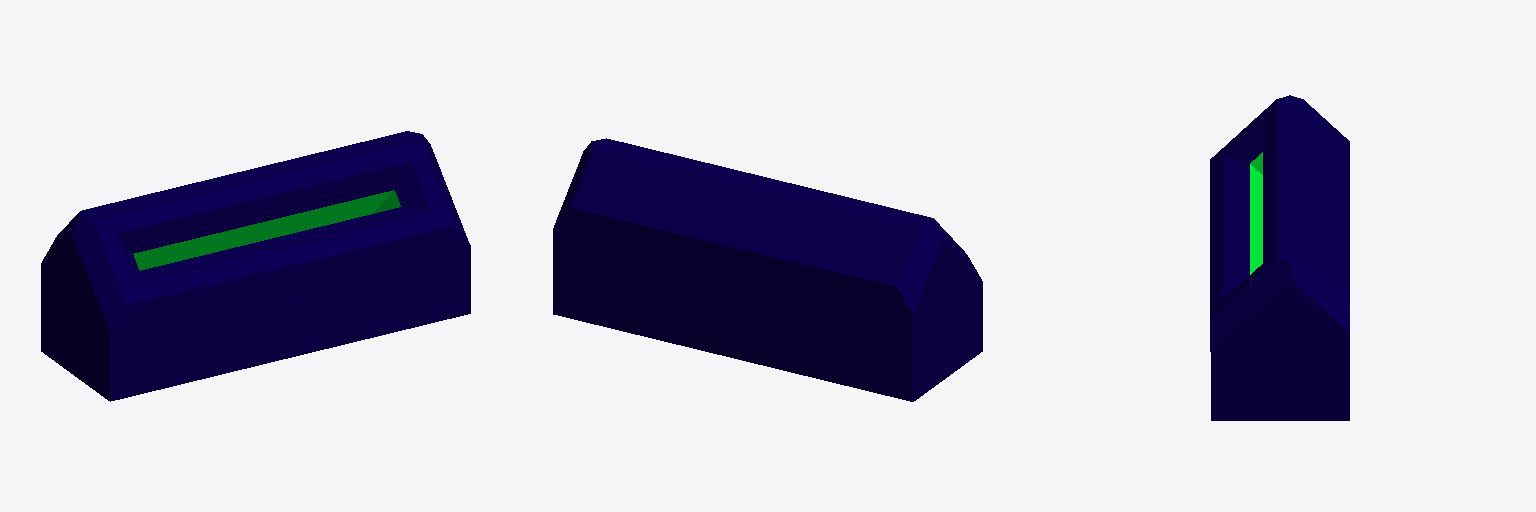
File: laser.obj
The picture shows the model from 3 angles: view 1: azimuth 30°, elevation 25°; view 2: azimuth 150°, elevation 25°; view 3: azimuth 270°, elevation 25°; orthographic projection.
Visible parts, largest first — view 1: laser; view 2: laser; view 3: laser.
Part boxes in pixels (left/top/right/bottom): laser: left=41, top=131, right=470, bottom=401; laser: left=553, top=138, right=982, bottom=401; laser: left=1210, top=95, right=1349, bottom=420.
Size of the model in its own units: 0.1103 by 0.0447 by 0.0371.